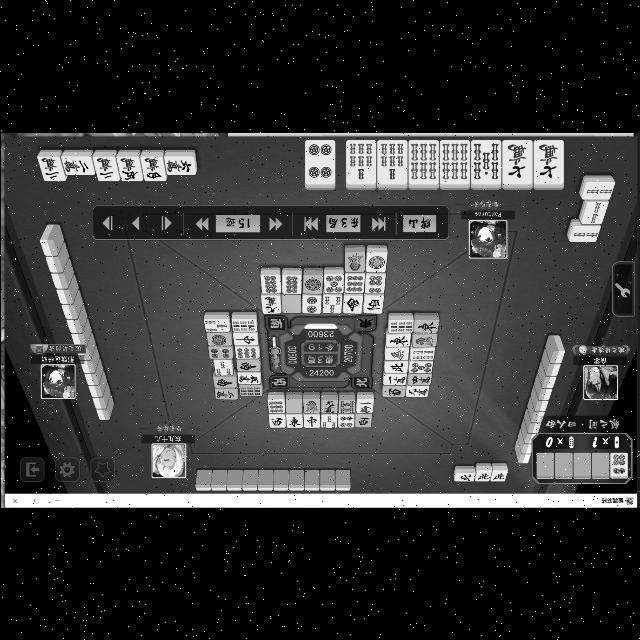1m: (381, 372, 405, 386), (356, 400, 372, 414)
1p: (302, 275, 322, 295), (367, 253, 387, 271), (206, 333, 230, 345)
1s: (344, 251, 364, 271), (412, 334, 436, 346), (303, 400, 319, 414)
2m: (37, 156, 65, 180), (59, 157, 91, 176), (93, 156, 117, 180), (214, 388, 236, 400)
2p: (301, 294, 321, 314)
2s: (581, 201, 607, 225), (580, 182, 614, 200), (571, 225, 599, 242)
3s: (322, 294, 342, 314), (202, 318, 230, 332), (214, 361, 232, 377), (321, 415, 337, 429)
4m: (140, 156, 164, 180), (407, 374, 431, 386)
4p: (302, 140, 334, 184), (208, 346, 232, 360), (338, 414, 354, 428)
4s: (410, 348, 434, 360)
5m: (114, 157, 140, 183), (236, 373, 260, 385)
5p: (323, 274, 342, 294), (408, 362, 432, 374)
5s: (470, 140, 500, 183)
6m: (163, 156, 195, 174)
6p: (364, 272, 384, 294), (610, 452, 626, 478)
6s: (408, 140, 438, 184), (439, 140, 468, 184)
7m: (502, 140, 532, 183), (534, 142, 562, 186)
7s: (375, 140, 407, 184), (345, 140, 375, 184)
8p: (260, 274, 280, 294), (280, 276, 300, 294)
8s: (338, 400, 354, 414)
9m: (261, 294, 279, 314), (404, 387, 428, 398), (320, 400, 338, 414)
9p: (345, 272, 363, 294), (234, 347, 258, 358), (267, 399, 283, 413)
9s: (230, 317, 253, 333), (388, 320, 412, 332), (238, 387, 262, 397)
chun: (231, 332, 257, 346), (302, 414, 320, 428)
haku: (280, 295, 302, 313), (284, 400, 302, 414)
hatsu: (384, 346, 408, 359)
nan: (343, 294, 362, 314), (236, 360, 260, 372), (212, 377, 236, 389)
pe: (384, 361, 406, 373), (454, 473, 474, 483), (490, 471, 506, 482), (476, 472, 490, 482)
sha: (364, 295, 382, 313), (356, 414, 372, 428), (268, 414, 284, 428), (382, 386, 404, 396)
tou: (414, 320, 438, 332), (386, 334, 409, 346), (284, 415, 302, 429)
